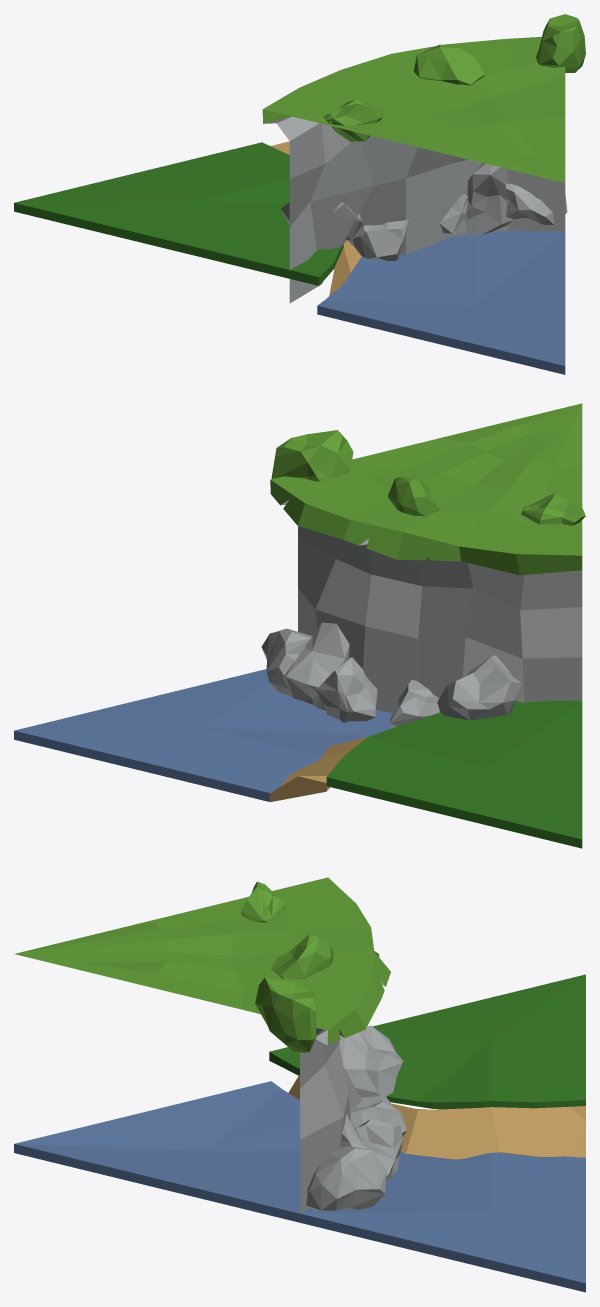
The picture shows the model from 3 angles, top to bottom: view 1: azimuth 30°, elevation 25°; view 2: azimuth 150°, elevation 25°; view 3: azimuth 270°, elevation 25°; orthographic projection. The views are drawn at different scales.
Parts seen in each view (by area): view 1: hill8.002, water8.002, ground.006, rock4.003, bush2.005, bush1.005, rock3.003, bush3.005, rock0.015, sand.001, rock5.003, rock1.003; view 2: hill8.002, ground.006, water8.002, rock1.003, bush2.005, rock4.003, rock5.003, sand.001, rock0.015, rock3.003, bush1.005, bush3.005; view 3: water8.002, hill8.002, ground.006, sand.001, rock0.015, bush2.005, rock1.003, bush1.005, rock5.003, rock3.003, bush3.005, rock4.003.
Boxes of the visible parts, x1,y1,x2,y2 form: hill8.002: [262, 37, 565, 303]; water8.002: [317, 230, 565, 374]; ground.006: [14, 142, 343, 285]; rock4.003: [464, 163, 512, 235]; bush2.005: [536, 14, 585, 72]; bush1.005: [414, 44, 484, 85]; rock3.003: [353, 219, 408, 261]; bush3.005: [323, 99, 382, 141]; rock0.015: [505, 183, 567, 224]; sand.001: [270, 141, 361, 295]; rock5.003: [440, 194, 467, 233]; rock1.003: [281, 202, 364, 239]; hill8.002: [270, 403, 582, 712]; ground.006: [326, 700, 582, 848]; water8.002: [14, 669, 392, 801]; rock1.003: [437, 655, 521, 720]; bush2.005: [271, 430, 353, 481]; rock4.003: [282, 622, 349, 710]; rock5.003: [316, 657, 377, 722]; sand.001: [269, 736, 368, 801]; rock0.015: [261, 628, 312, 694]; rock3.003: [390, 680, 439, 727]; bush1.005: [388, 477, 439, 515]; bush3.005: [521, 493, 585, 525]; water8.002: [14, 1081, 585, 1292]; hill8.002: [15, 877, 390, 1213]; ground.006: [269, 974, 585, 1109]; sand.001: [288, 1075, 585, 1159]; rock0.015: [306, 1145, 386, 1210]; bush2.005: [255, 977, 316, 1052]; rock1.003: [339, 1025, 403, 1098]; bush1.005: [271, 934, 333, 979]; rock5.003: [356, 1118, 403, 1180]; rock3.003: [350, 1095, 406, 1136]; bush3.005: [241, 881, 285, 922]; rock4.003: [340, 1114, 394, 1179].
Bounding box in the file's own units: 1 × 0.4128 × 0.866.
